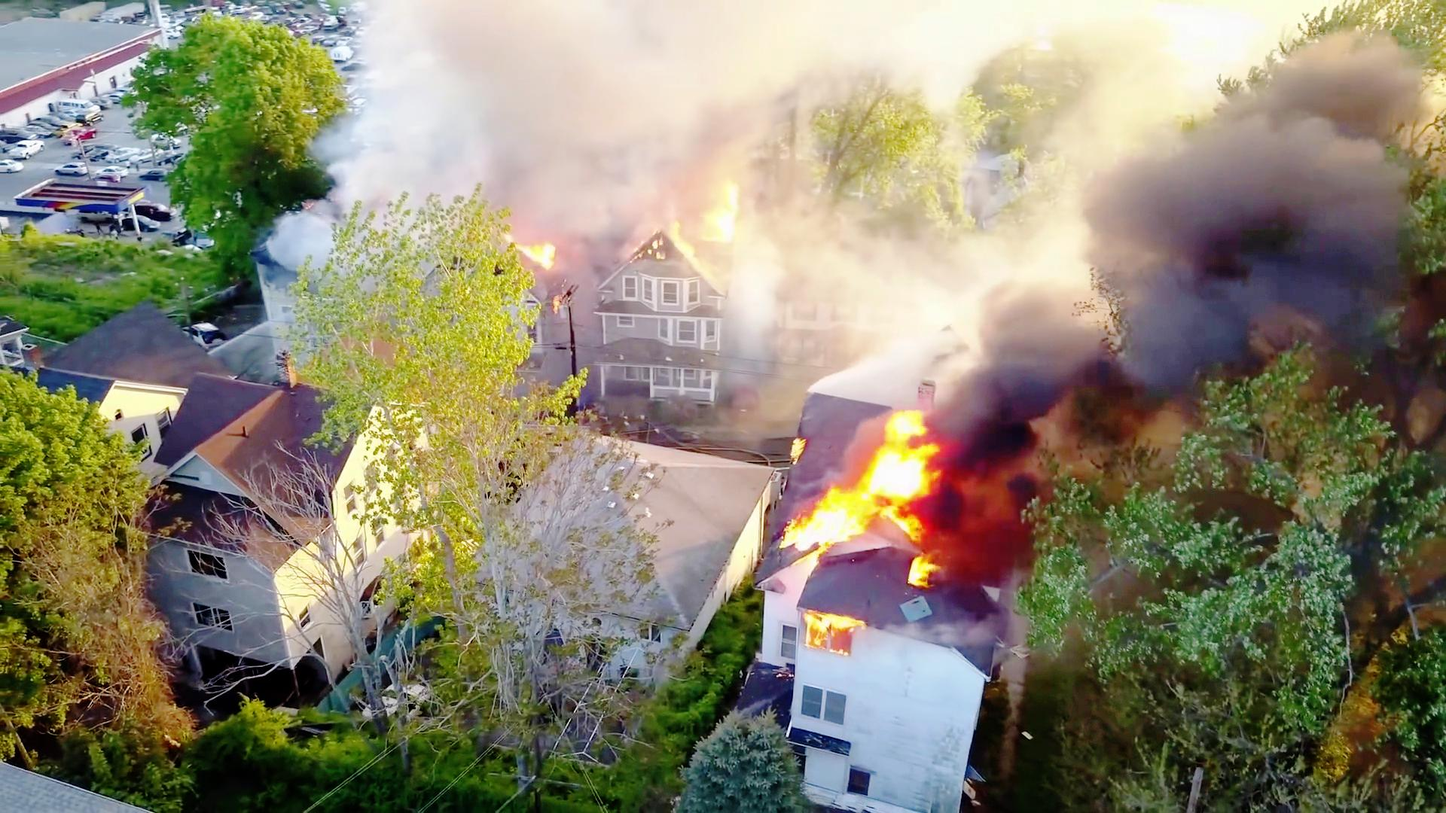fire: (767, 414, 949, 554)
smoke: (1149, 98, 1376, 309), (414, 0, 665, 160)
